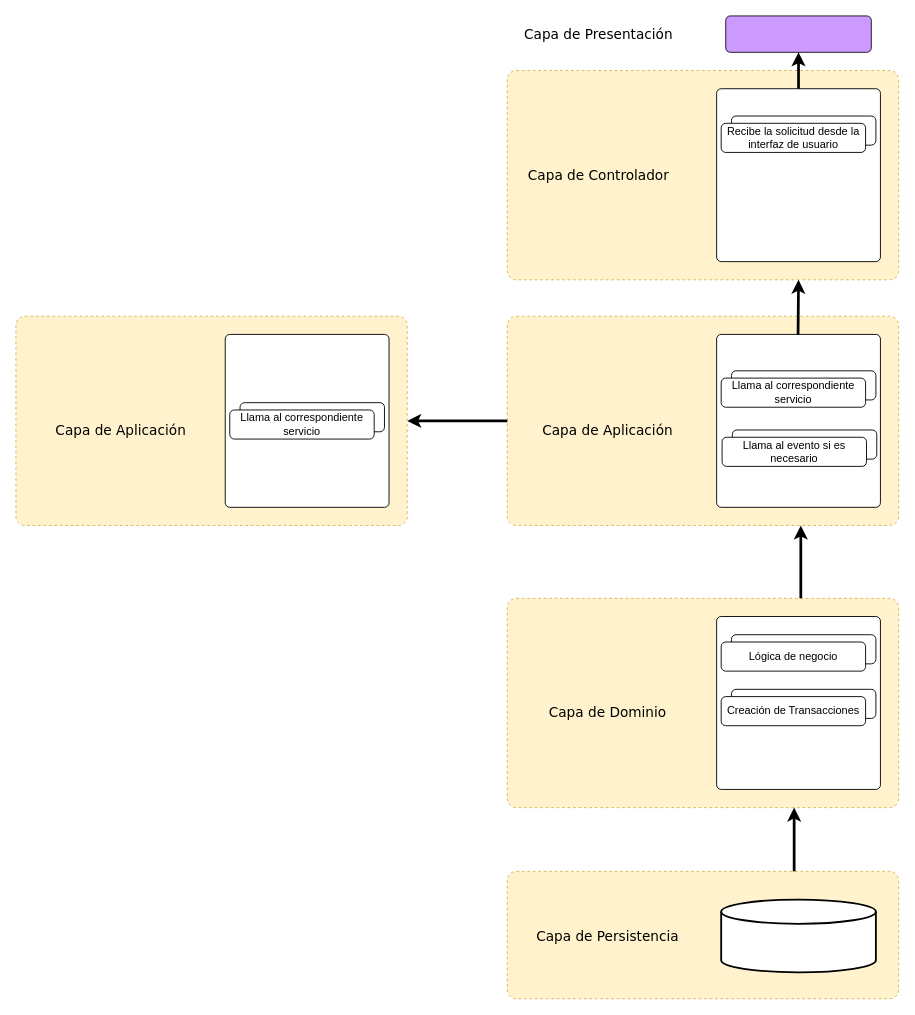
The diagram is 915 pixels wide and 1015 high, and some of its shapes have lost their labels. Here are the shapes that lost their labels. From the top down, the centre of each, then its label:
At point (798, 33): "USER INTERFACE".
At point (798, 935): "Transaction Data".
